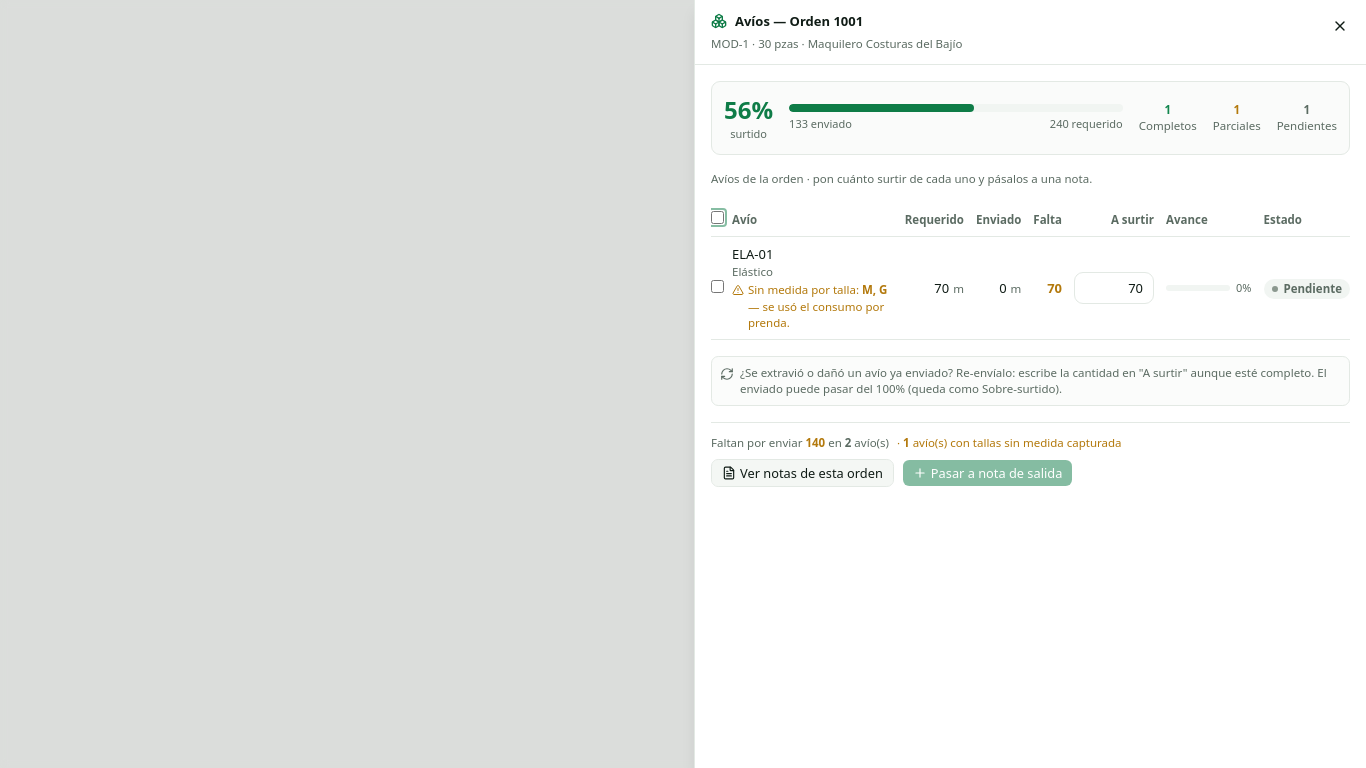
PanelHabilitacionOrden (R6, B13) › ⭐ §Post-F9.64: avisa (sin bloquear) las tallas de la orden sin medida capturada
Expected: the element with test id "hab-sin-medida" shows "M, G", [862,282,888,297]
Expected: the element with test id "hab-sin-medida-total" shows "1", [903,435,910,450]
// AVISA, NO BLOQUEA: el renglón se puede marcar y pasar a nota igual.
Step 1. Click the checkbox named "Surtir ELA-01" → (718, 286), box [711,280,724,293]
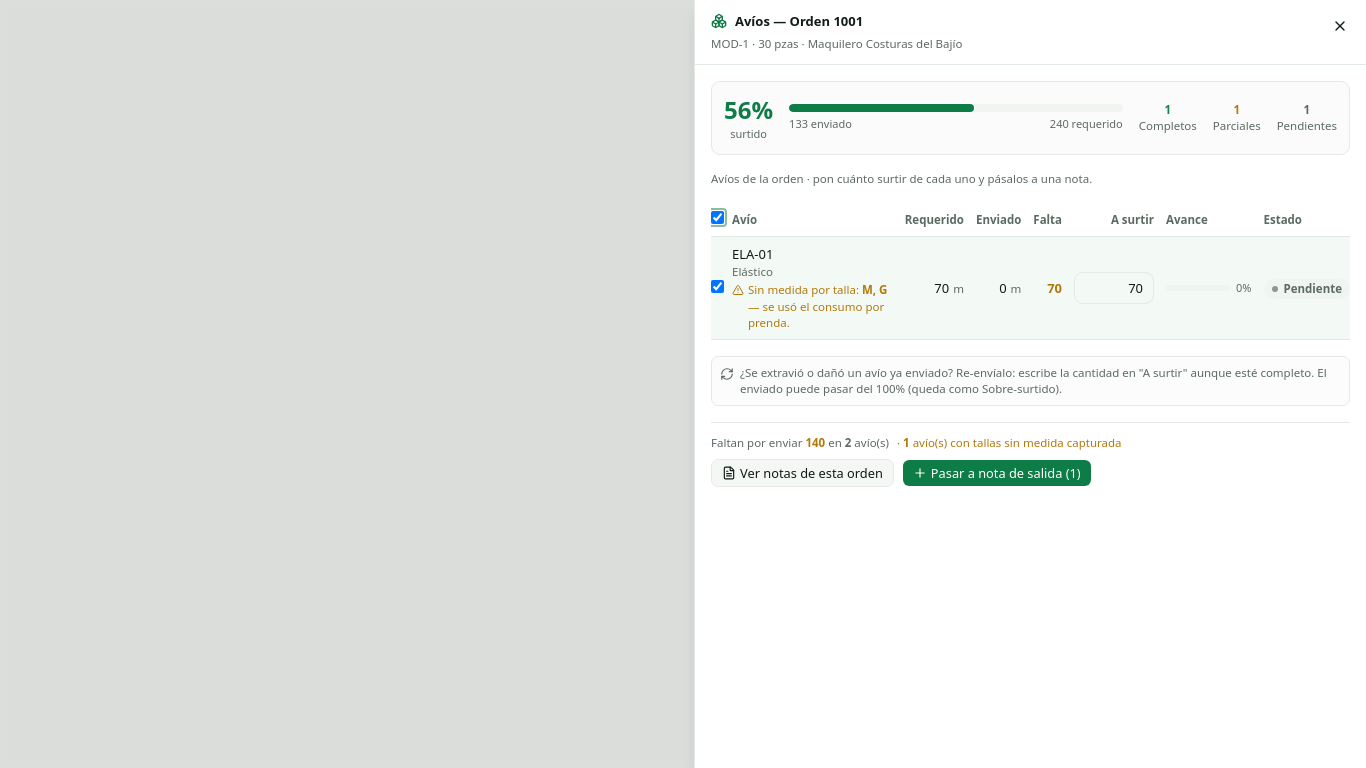
Expected: the button with test id "hab-pasar-nota" is enabled, [902,459,1092,487]
